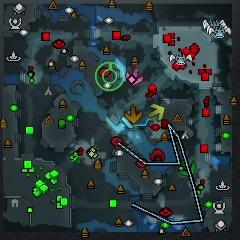Other: (95, 61, 124, 91)
x1: (126, 68, 144, 85)
x2: (149, 104, 165, 121)
x3: (121, 110, 134, 129)
x4: (180, 159, 196, 177)
x5: (125, 105, 142, 123)
